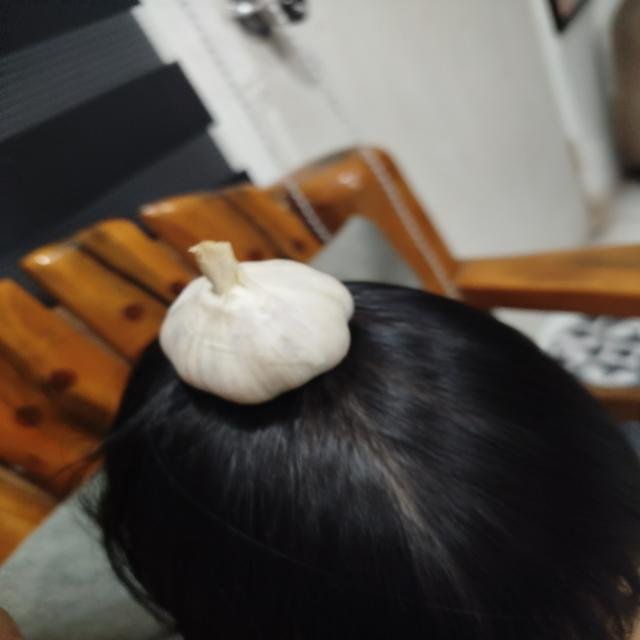garlic: (158, 239, 355, 405)
